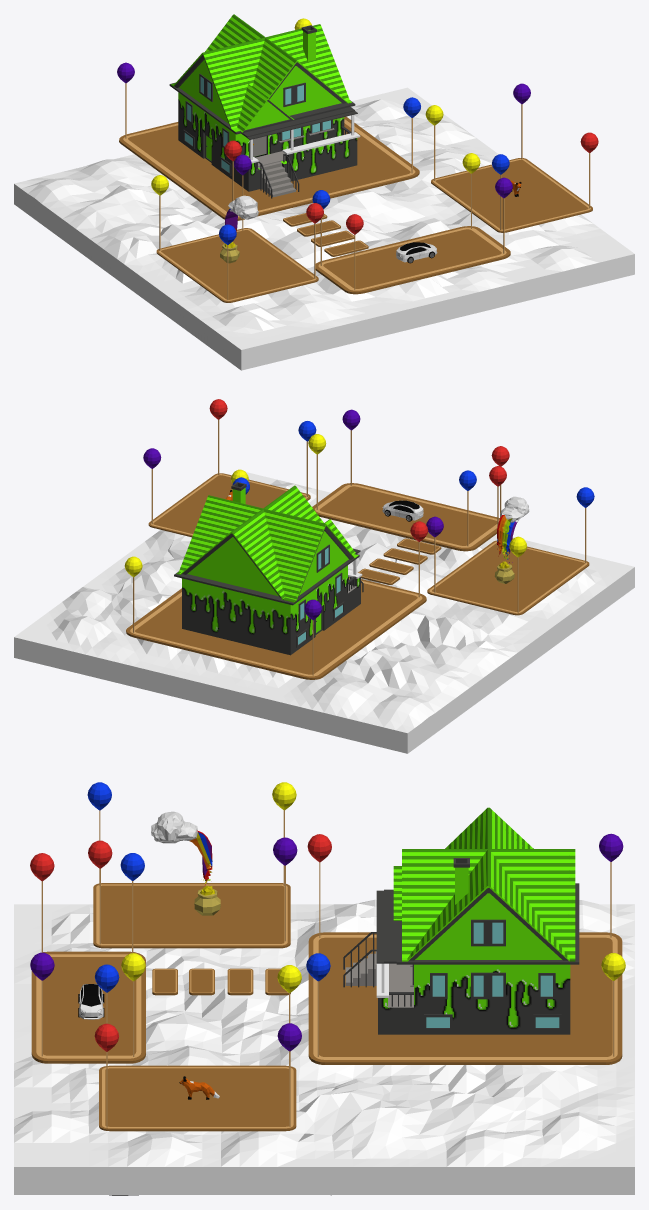
3 views of the same model, one above another, from view 1: azimuth 30°, elevation 25°; view 2: azimuth 150°, elevation 25°; view 3: azimuth 270°, elevation 25° (orthographic). The views are drawn at different scales.
Visible parts, largest first — view 1: Cube.013, Cube.754, OBJRANDOM_RAINBOW, VEHICLES_TESLA; view 2: Cube.013, Cube.754, OBJRANDOM_RAINBOW, VEHICLES_TESLA; view 3: Cube.013, Cube.754, OBJRANDOM_RAINBOW, VEHICLES_TESLA.
Boxes of the visible parts, x1,y1,x2,y2 form: Cube.013: (14, 18, 634, 370); Cube.754: (169, 14, 360, 198); OBJRANDOM_RAINBOW: (220, 195, 258, 263); VEHICLES_TESLA: (396, 242, 437, 263); Cube.013: (14, 399, 634, 753); Cube.754: (174, 482, 363, 655); OBJRANDOM_RAINBOW: (494, 496, 529, 583); VEHICLES_TESLA: (382, 500, 423, 521); Cube.013: (14, 782, 634, 1194); Cube.754: (343, 807, 579, 1034); OBJRANDOM_RAINBOW: (151, 811, 220, 915); VEHICLES_TESLA: (78, 984, 104, 1019).
Size of the model in its own units: 4000 by 1660 by 4000.
35 materials, 2 textured.
